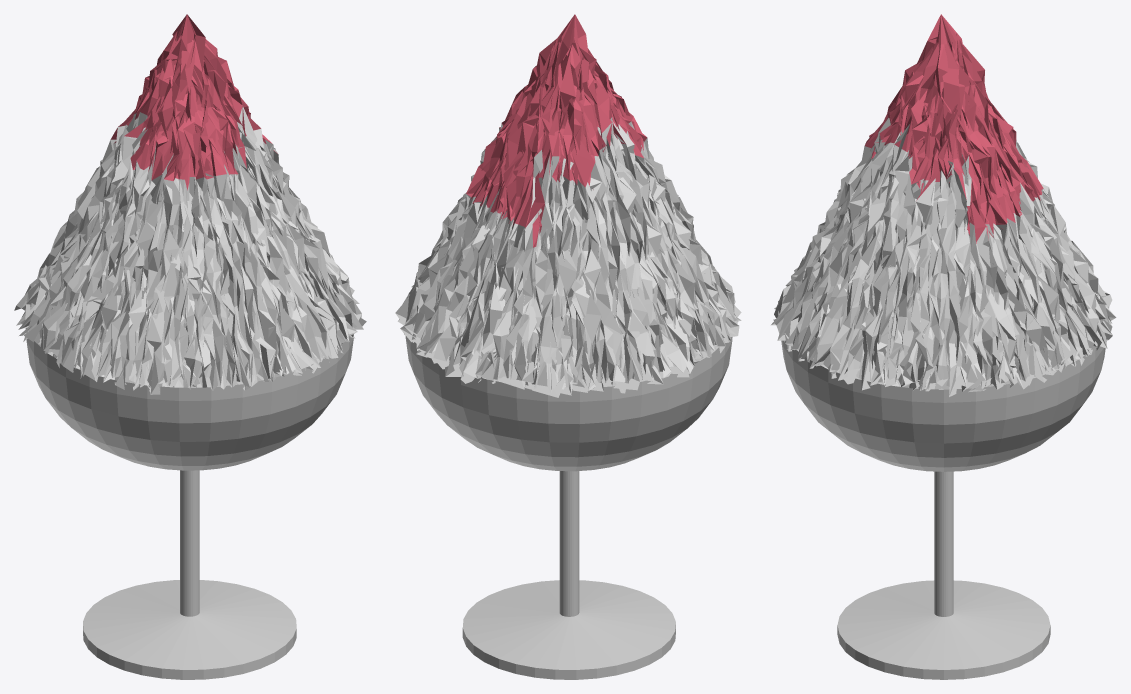
File: Glass3.fbx
3 views of the same model, side by side, from view 1: azimuth 30°, elevation 25°; view 2: azimuth 150°, elevation 25°; view 3: azimuth 270°, elevation 25° (orthographic).
Visible parts, largest first — view 1: Cube; view 2: Cube; view 3: Cube.
Boxes of the visible parts, x1=… form: Cube: x1=14, y1=14, x2=366, y2=679; Cube: x1=395, y1=14, x2=741, y2=679; Cube: x1=771, y1=14, x2=1116, y2=679.
Size of the model in its own units: 256 by 515 by 261.
